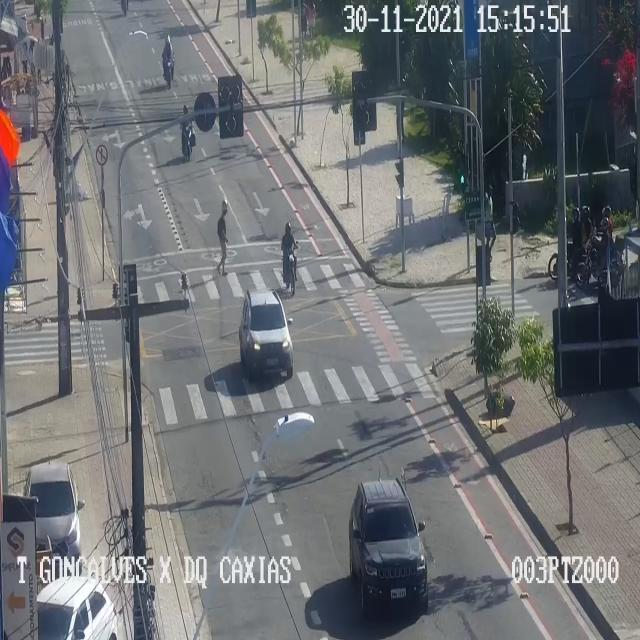Car: (348, 479, 426, 610), (24, 462, 80, 574), (36, 576, 116, 639), (238, 288, 292, 377)
Motorcycle: (576, 205, 622, 282), (574, 217, 620, 287), (548, 206, 590, 278), (281, 222, 298, 294), (180, 104, 193, 160), (162, 36, 174, 88)
